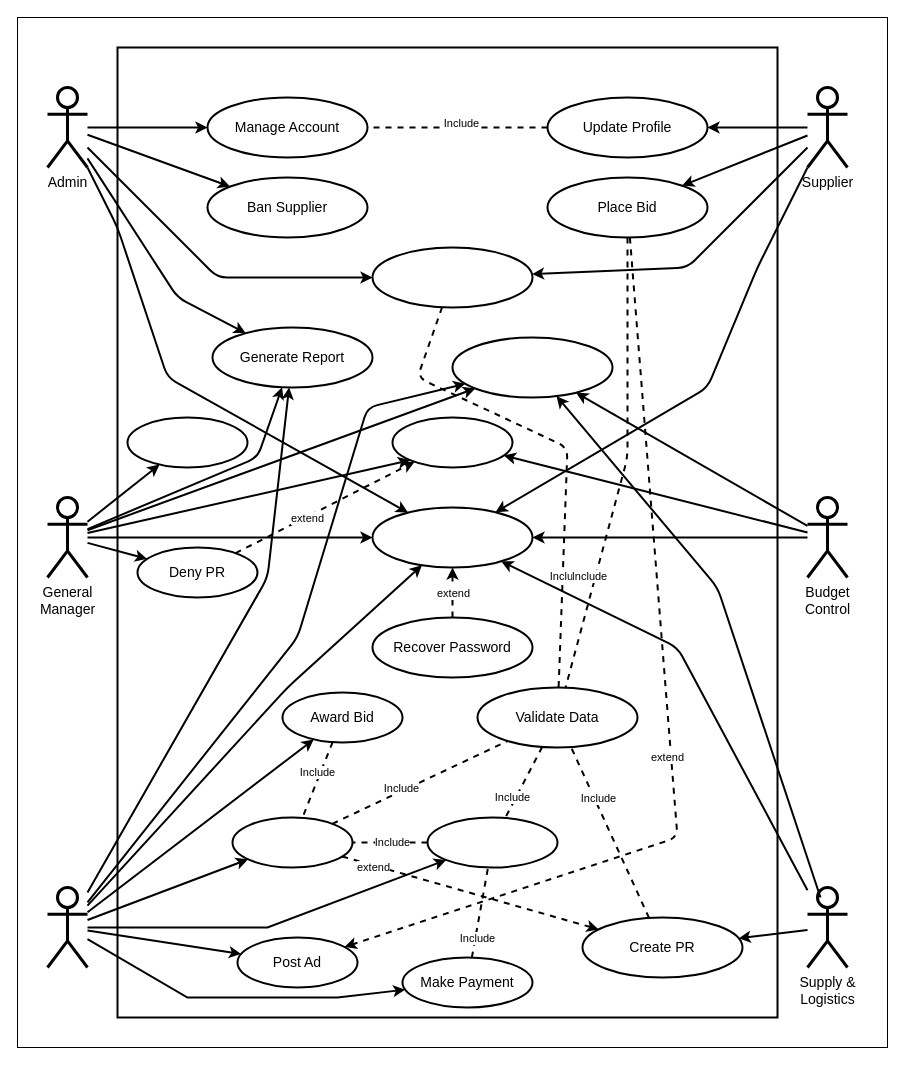
Some shapes in this 905 by 1065 pixel diagram are drawn without their labels. Here are the shapes that lost their labels. From the top down, the centre of each, then its label:
At [452,277]: "Register Supplier".
At [532,367]: "Track Progress".
At [187,442]: "Approve PR".
At [452,442]: "Leave Comment".
At [452,537]: "Login".
At [292,842]: "Create PO".
At [492,842]: "Create GRN".
At [67,927]: "Procurement Unit".
